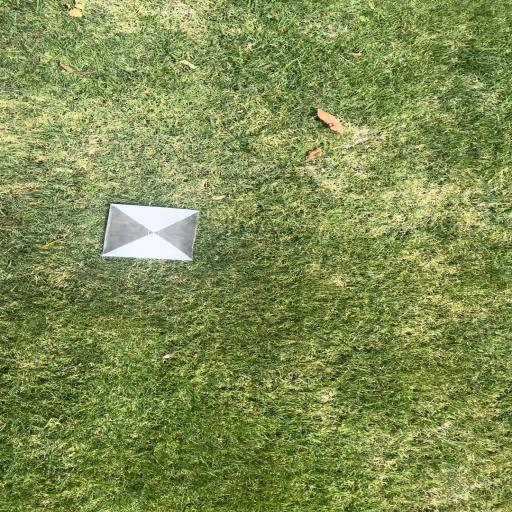target: (106, 203, 196, 260)
